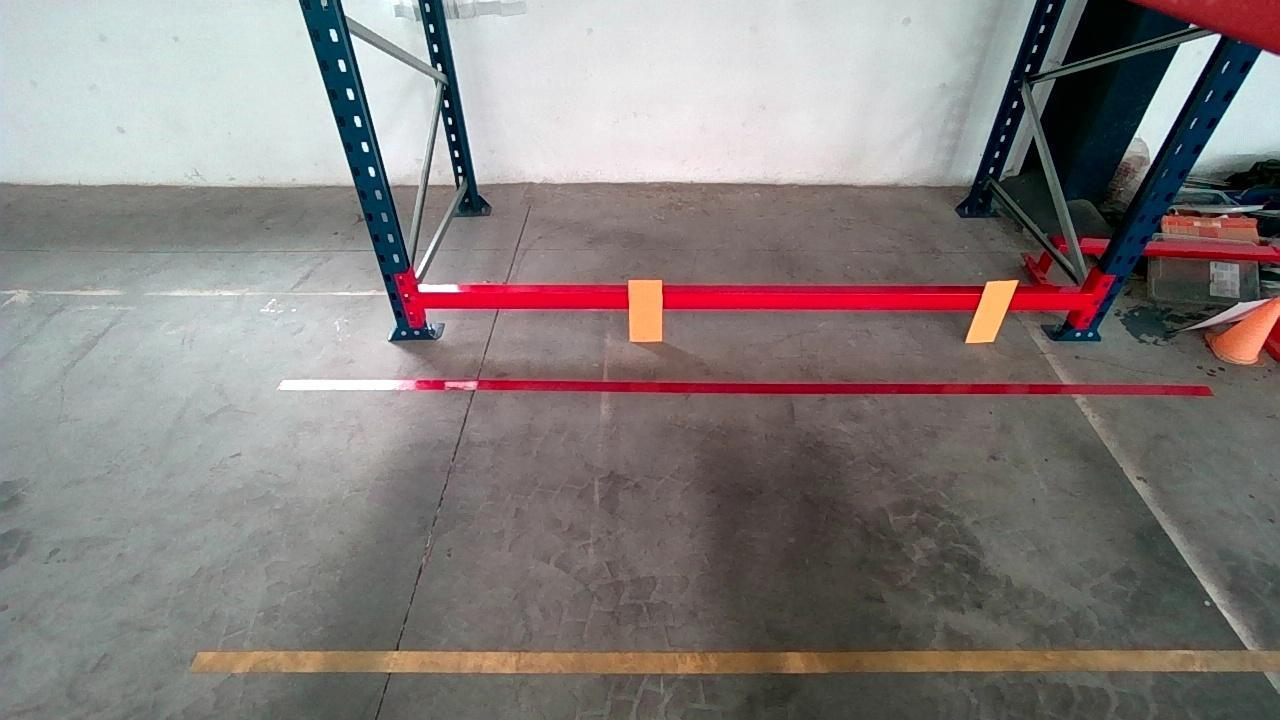h_rack: (420, 281, 1091, 310)
orange_strip: (965, 279, 1020, 342), (629, 278, 663, 340)
red_line: (285, 370, 1210, 403)
yellow_line: (202, 643, 1273, 675)
